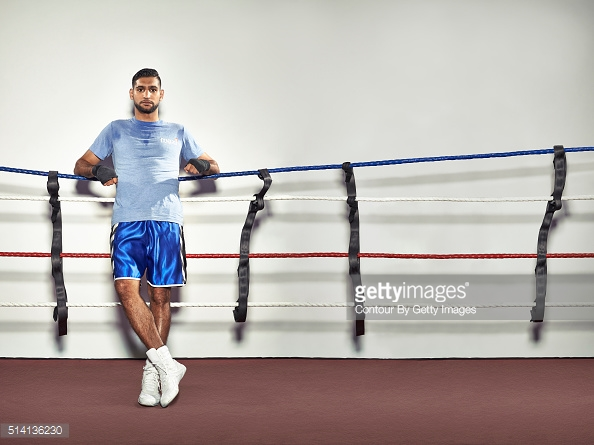em pe: (56, 49, 217, 387)
